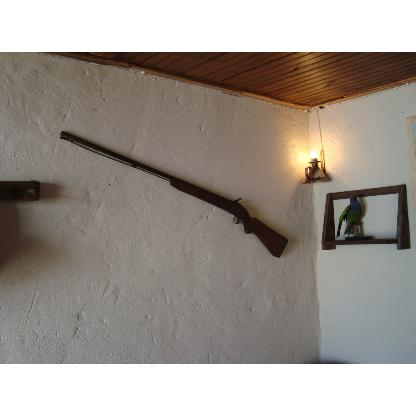gun: (67, 125, 305, 273)
